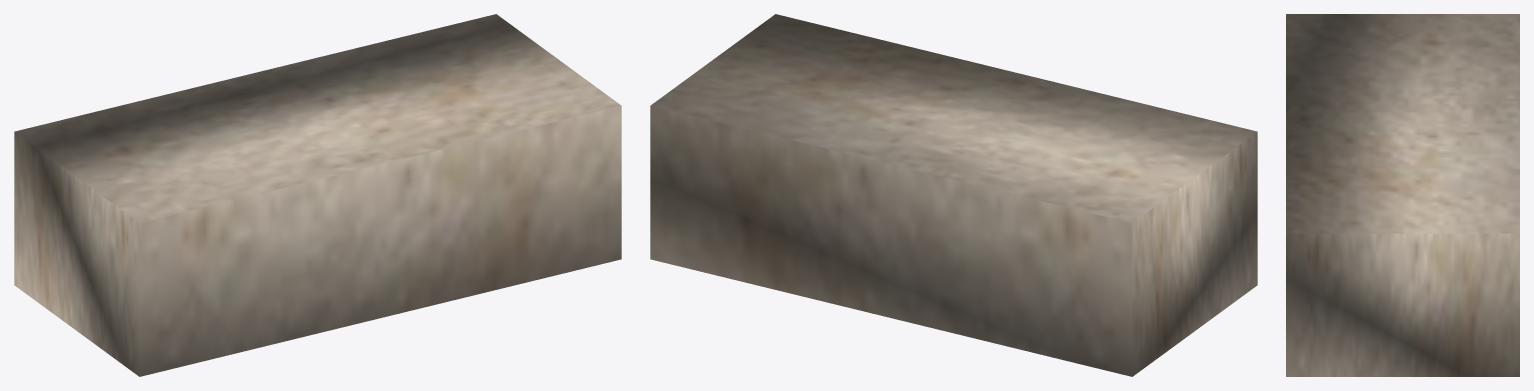
Rendered from limestone slab.glb.
The picture shows the model from 3 angles, left to right: view 1: azimuth 30°, elevation 25°; view 2: azimuth 150°, elevation 25°; view 3: azimuth 270°, elevation 25°; orthographic projection. The views are drawn at different scales.
Visible parts, largest first — view 1: Limestone Slab; view 2: Limestone Slab; view 3: Limestone Slab.
Boxes of the visible parts, x1,y1,x2,y2 form: Limestone Slab: (14,14,621,376); Limestone Slab: (650,14,1257,376); Limestone Slab: (1286,14,1519,376).
Size of the model in its own units: 0.5 by 0.1524 by 0.225.
1 material, 1 textured.
